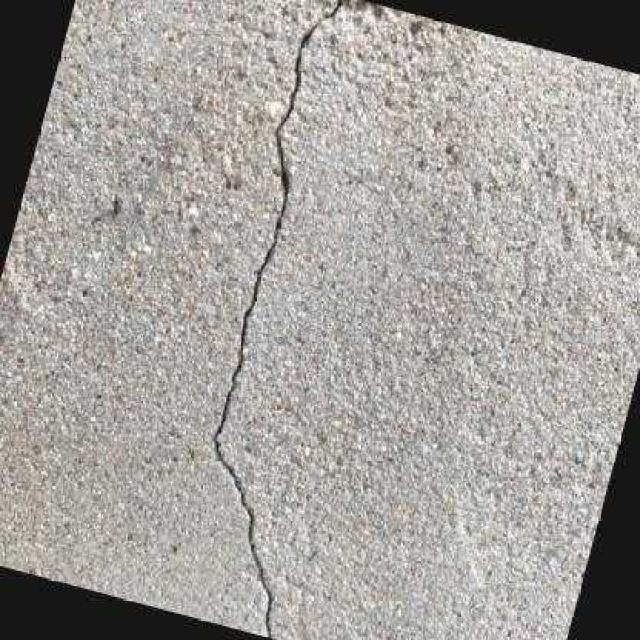D00: (206, 0, 349, 640)
